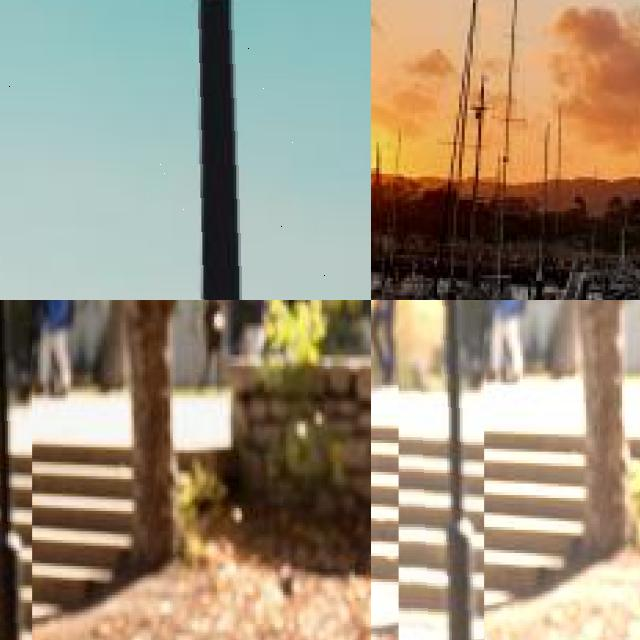street light: (0, 0, 371, 300), (398, 300, 484, 640), (0, 300, 32, 640), (313, 300, 335, 354)
